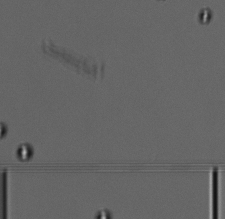Living Cell: (15, 142, 34, 161), (197, 6, 213, 24)
